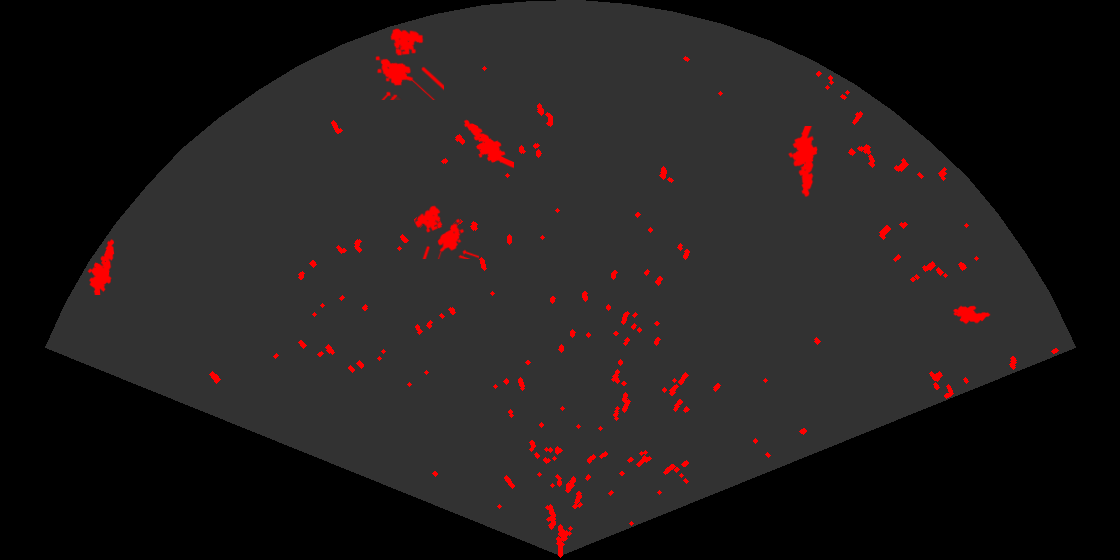AUV: (951, 304, 992, 325)
cage: (374, 27, 444, 100), (413, 204, 479, 259)
frogman: (462, 118, 514, 170), (786, 126, 819, 199), (86, 238, 116, 295)
